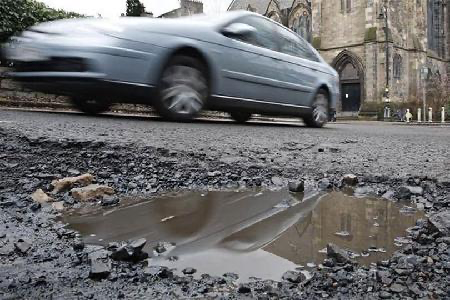pothole: (46, 158, 446, 288)
